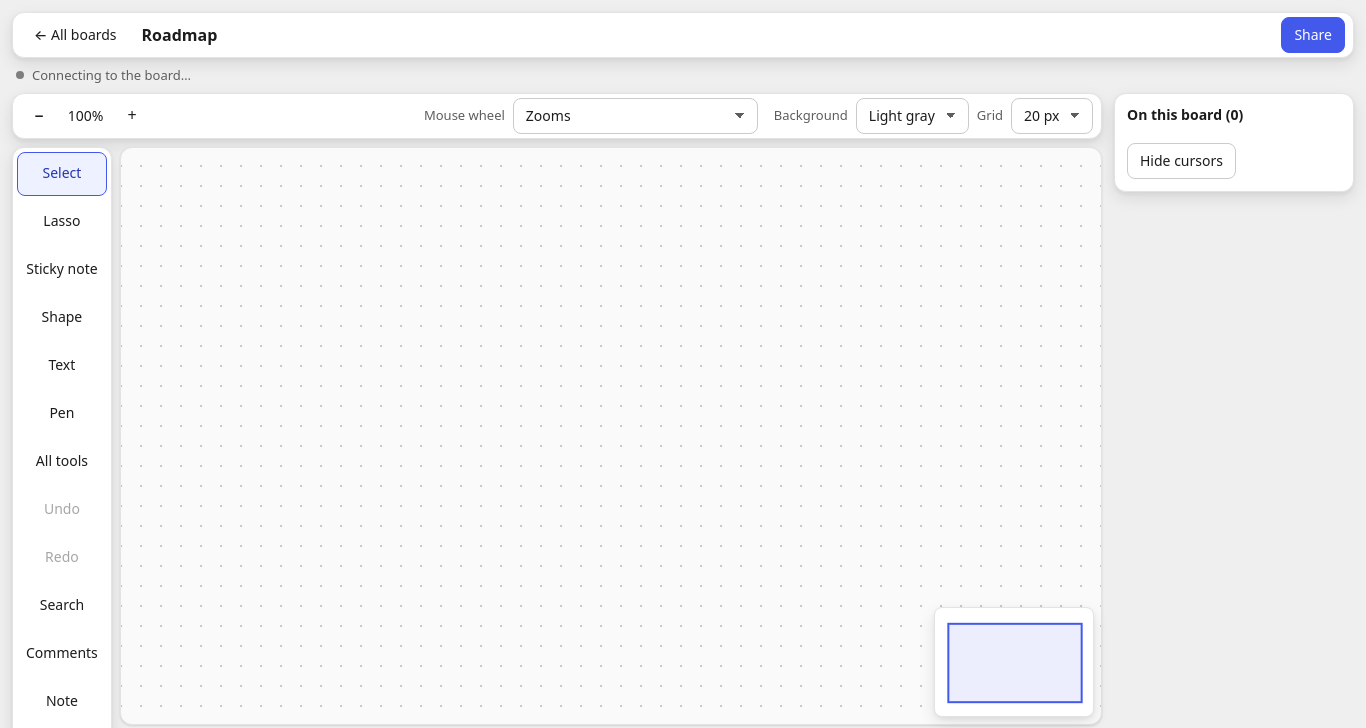
Scenario: диалог Share на /boards/{id} (SHR-01, SHR-06) › SHR-01: показывает ссылку, собранную сервером из PUBLIC_BASE_URL
Click the button "Share" at (1313, 35), box [1281,17,1345,53]
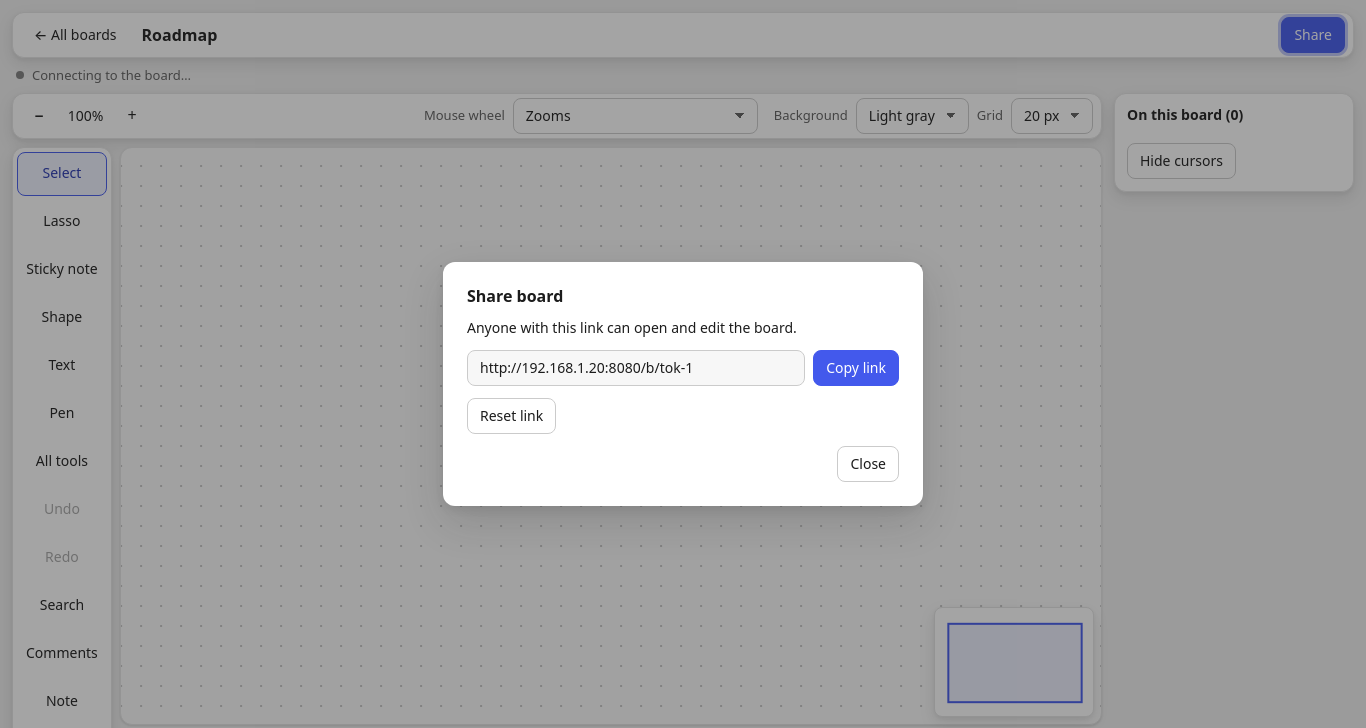
Now the dialog "Share board" is shown, box [443,262,923,506]
